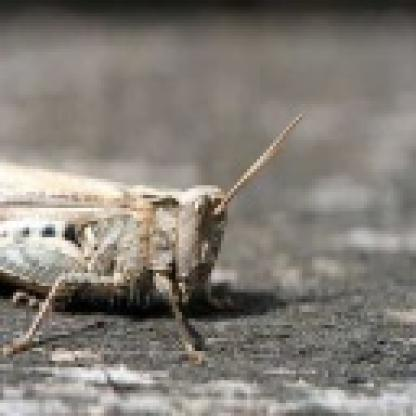grasshopper: (0, 111, 308, 366)
